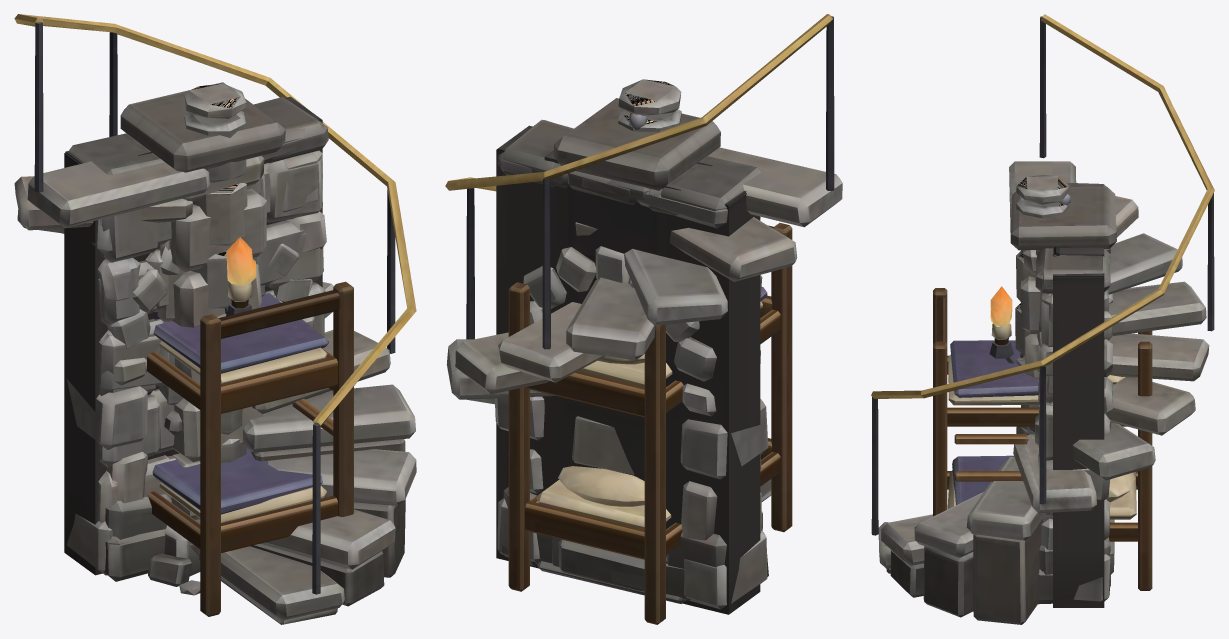
Rendered from env-watchtower.low.glb.
3 views of the same model, side by side, from view 1: azimuth 30°, elevation 25°; view 2: azimuth 150°, elevation 25°; view 3: azimuth 270°, elevation 25° (orthographic). The views are drawn at different scales.
Visible parts, largest first — view 1: spiral-stairs, bunk, tower-slit, tower-doorway, tower-pillar, tower-wall, rubble, tower-wall-low, torch-sconce; view 2: spiral-stairs, tower-slit, bunk, tower-doorway, tower-pillar, tower-wall, tower-pillar-low, tower-wall-low; view 3: spiral-stairs, bunk, tower-slit, tower-pillar, tower-doorway, torch-sconce, tower-wall.
Boxes of the visible parts, left/top/right/bottom form: spiral-stairs: left=14, top=14, right=416, bottom=624; bunk: left=147, top=281, right=353, bottom=616; tower-slit: left=64, top=120, right=328, bottom=575; tower-doorway: left=65, top=97, right=327, bottom=575; tower-pillar: left=120, top=82, right=285, bottom=556; tower-wall: left=65, top=96, right=321, bottom=581; rubble: left=148, top=519, right=200, bottom=595; tower-wall-low: left=96, top=493, right=171, bottom=574; torch-sconce: left=226, top=237, right=256, bottom=316; spiral-stairs: left=445, top=14, right=842, bottom=501; tower-slit: left=496, top=120, right=761, bottom=614; bunk: left=508, top=223, right=792, bottom=624; tower-doorway: left=494, top=119, right=768, bottom=609; tower-pillar: left=554, top=98, right=720, bottom=591; tower-wall: left=497, top=125, right=768, bottom=600; tower-pillar-low: left=558, top=540, right=644, bottom=590; tower-wall-low: left=503, top=487, right=762, bottom=568; spiral-stairs: left=871, top=14, right=1214, bottom=624; bunk: left=933, top=288, right=1152, bottom=590; tower-slit: left=1035, top=250, right=1110, bottom=607; tower-pillar: left=1010, top=186, right=1116, bottom=555; tower-doorway: left=1035, top=182, right=1112, bottom=601; torch-sconce: left=989, top=286, right=1015, bottom=363; tower-wall: left=1036, top=248, right=1110, bottom=604.
Size of the model in its own units: 1.68 by 2.6 by 1.68.
2 materials, 2 textured.
